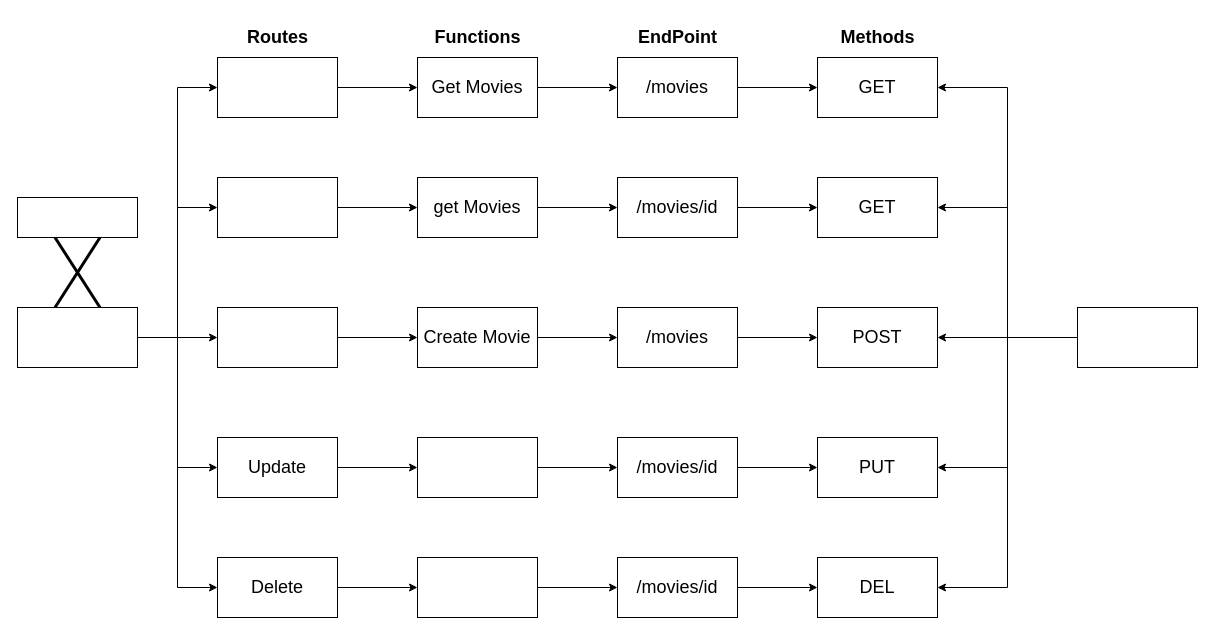
The diagram is 1215 pixels wide and 635 high, and some of its shapes have lost their labels. The centre of each missing label's shape, as x and y in pixels:
Create: the point at 277,337
DATABASE: the point at 77,217
Delete Movie: the point at 477,587
Get All: the point at 277,87
Get By ID: the point at 277,207
Movies Server: the point at 77,337
POSTMAN: the point at 1137,337
Update Movie: the point at 477,467
